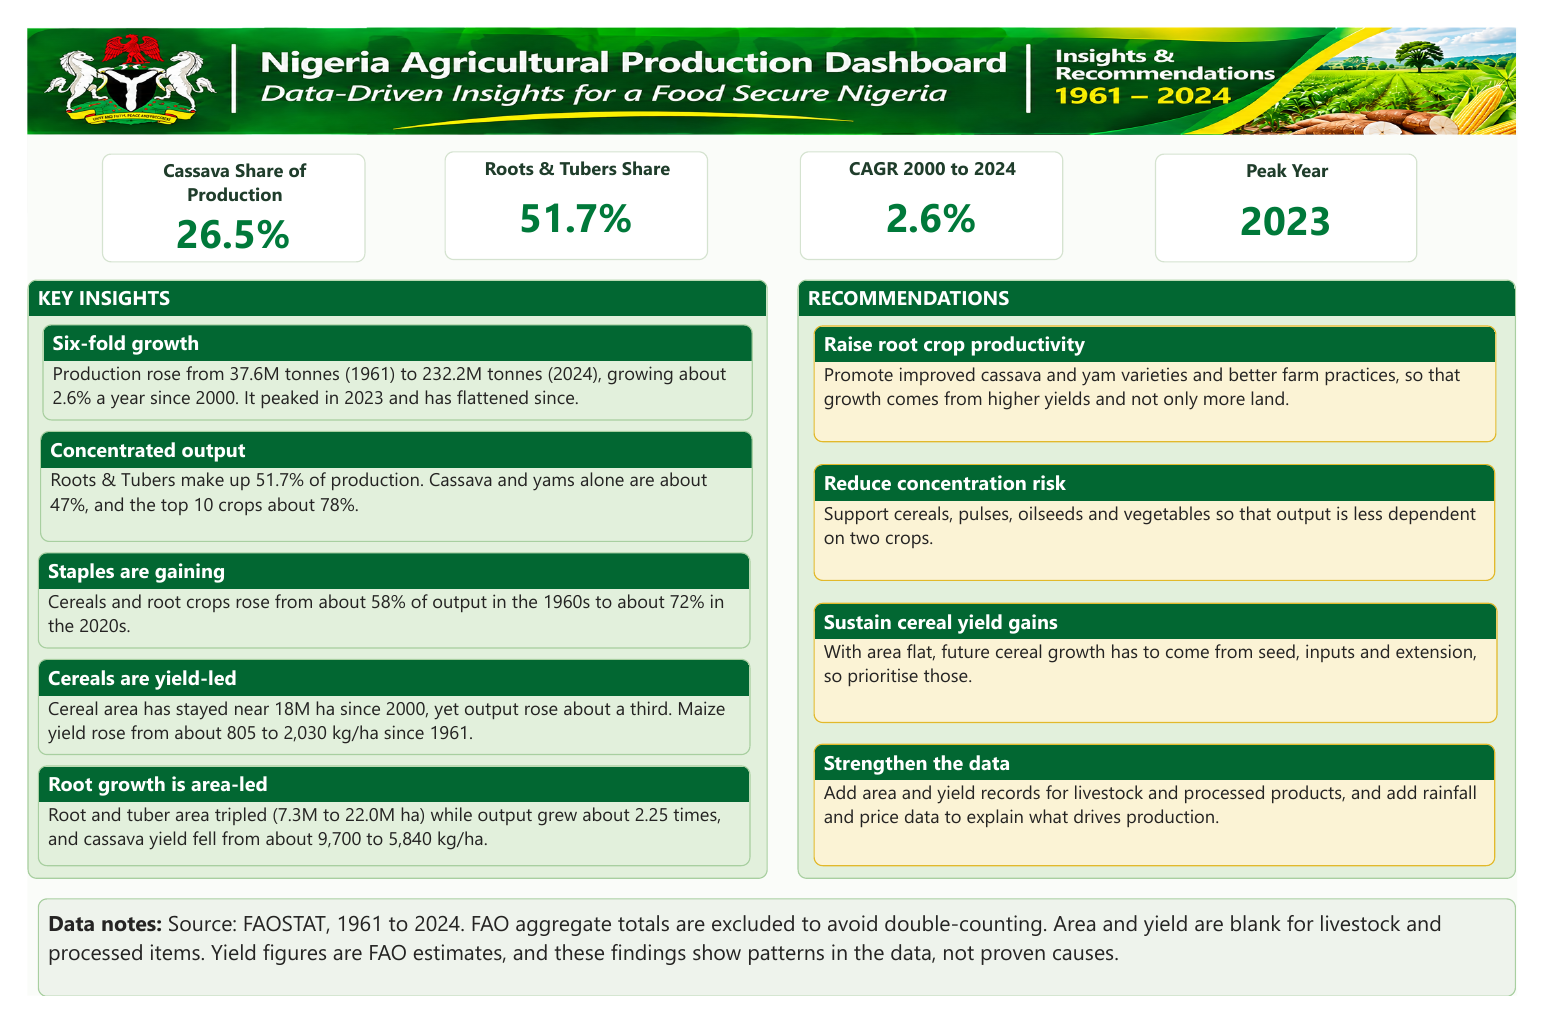

This screenshot's page, from the dashboard's own definition file:
{"tool":"powerbi","page":{"name":"Insights & Recommendations","canvas":[1300,845],"ordinal":3},"visuals":[{"type":"textbox","title":"KEY INSIGHTS","box":[0,220.3,645.9,522.7],"z":0},{"type":"image","box":[0,0,1299.3,93.3],"z":1000},{"type":"textbox","title":"Six-fold growth","box":[13.1,259.5,619.8,84],"z":2000},{"type":"textbox","title":"Concentrated output","box":[11.2,352.4,621.6,97.1],"z":3000},{"type":"textbox","title":"Staples are gaining","box":[9.3,458.3,621.6,84],"z":4000},{"type":"textbox","title":"Cereals are yield-led","box":[9.3,551.2,621.6,84],"z":5000},{"type":"textbox","title":"Root growth is area-led","box":[9.3,644,621.6,87.7],"z":6000},{"type":"textbox","title":"RECOMMENDATIONS","box":[672,220.3,627.2,522.7],"z":7000},{"type":"textbox","title":"Raise root crop productivity","box":[685.8,259.9,595.8,102],"z":8000},{"type":"textbox","title":"Reduce concentration risk","box":[685.8,380.6,595.5,102.7],"z":9000},{"type":"textbox","title":"Sustain cereal yield gains","box":[685.8,502.1,597.4,104.5],"z":10000},{"type":"textbox","title":"Strengthen the data\t","box":[685.8,625.4,595.5,106.4],"z":11000},{"type":"card","title":"\tRoots & Tubers Share","fields":{"Values":["_Measures.Roots Tubers Share %"]},"box":[364,108.3,229.6,95.2],"z":12000},{"type":"card","title":"CAGR 2000 to 2024","fields":{"Values":["_Measures.Production CAGR 2000 to 2024"]},"box":[673.9,108.3,229.6,95.2],"z":13000},{"type":"card","title":"\tCassava Share of Production","fields":{"Values":["_Measures.Top Crop Share %"]},"box":[65.3,110.1,229.6,95.2],"z":14000},{"type":"card","title":"Peak Year","fields":{"Values":["_Measures.Peak Year"]},"box":[983.8,110.1,229.6,95.2],"z":15000},{"type":"textbox","title":"Strengthen the data\t","box":[0,760,1299,86],"z":16000}]}

Visuals, with their boxes in screenshot pixels (x1, y1, x2, y2), scaled from the page's 1300x845 canvas onto the 1545x1024 screenshot:
"KEY INSIGHTS" textbox: (0, 267, 768, 900)
image: (0, 0, 1544, 113)
"Six-fold growth" textbox: (16, 314, 752, 416)
"Concentrated output" textbox: (13, 427, 752, 545)
"Staples are gaining" textbox: (11, 555, 750, 657)
"Cereals are yield-led" textbox: (11, 668, 750, 770)
"Root growth is area-led" textbox: (11, 780, 750, 887)
"RECOMMENDATIONS" textbox: (799, 267, 1544, 900)
"Raise root crop productivity" textbox: (815, 315, 1523, 439)
"Reduce concentration risk" textbox: (815, 461, 1523, 586)
"Sustain cereal yield gains" textbox: (815, 608, 1525, 735)
"Strengthen the data	" textbox: (815, 758, 1523, 887)
"	Roots & Tubers Share" card: (433, 131, 705, 247)
"CAGR 2000 to 2024" card: (801, 131, 1074, 247)
"	Cassava Share of Production" card: (78, 133, 350, 249)
"Peak Year" card: (1169, 133, 1442, 249)
"Strengthen the data	" textbox: (0, 921, 1544, 1023)
